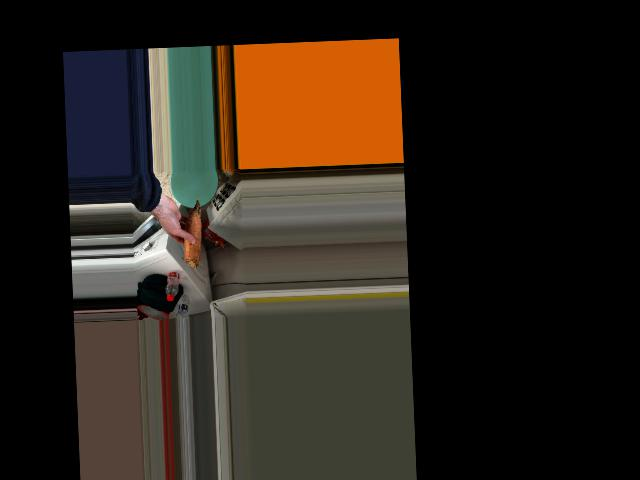sweet_potato: (177, 198, 204, 270)
